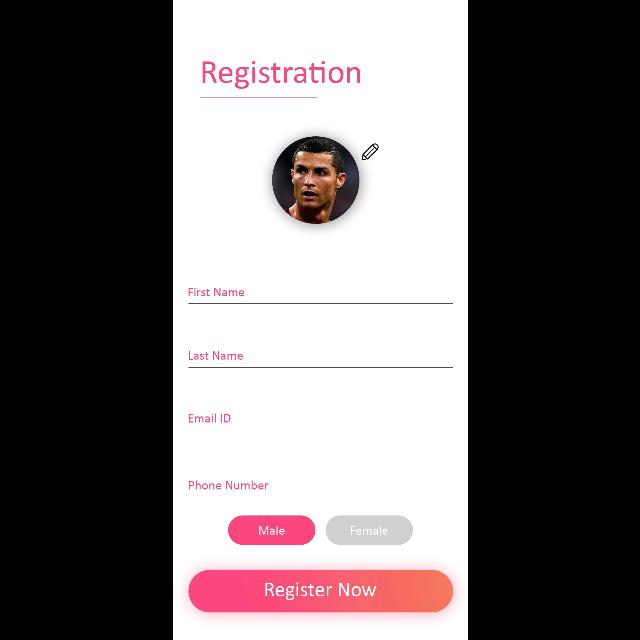icon: (362, 144, 378, 160)
image: (271, 136, 359, 224)
input: (188, 480, 452, 498), (188, 413, 452, 431), (188, 351, 452, 367), (188, 288, 452, 304)
text: (202, 61, 360, 89), (188, 288, 244, 296), (188, 351, 242, 359), (188, 413, 230, 422)
textbutton: (188, 570, 452, 612), (228, 516, 314, 544), (326, 516, 412, 544)
